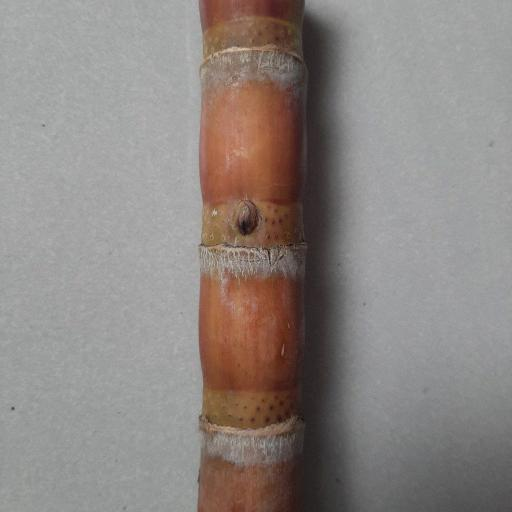Bud: (234, 201, 255, 237)
